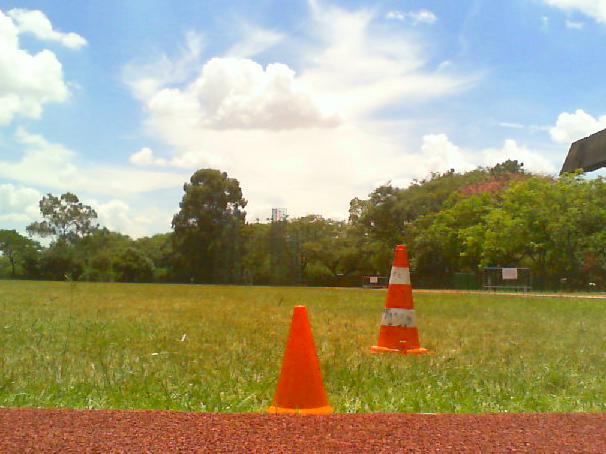0 cone: (264, 305, 334, 415), (370, 245, 427, 353)
